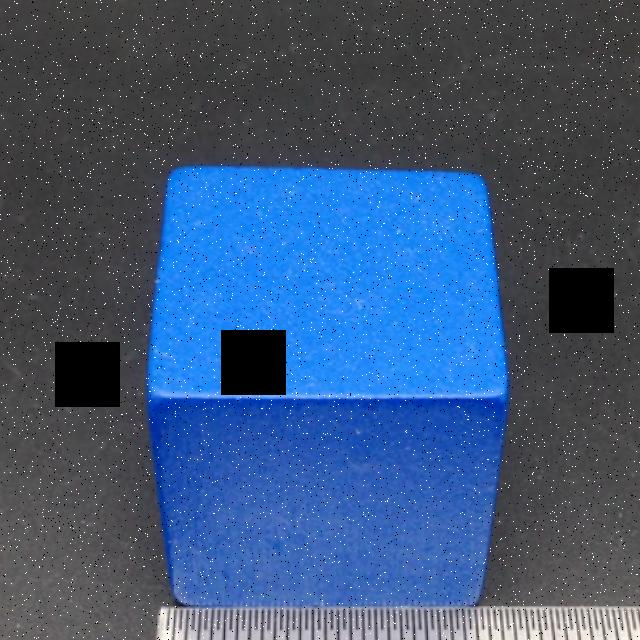bluecube: (145, 165, 509, 613)
